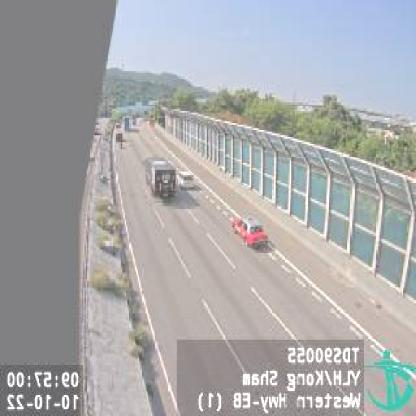Car: (231, 214, 267, 250), (177, 171, 194, 190)
Truck: (146, 155, 178, 201)
